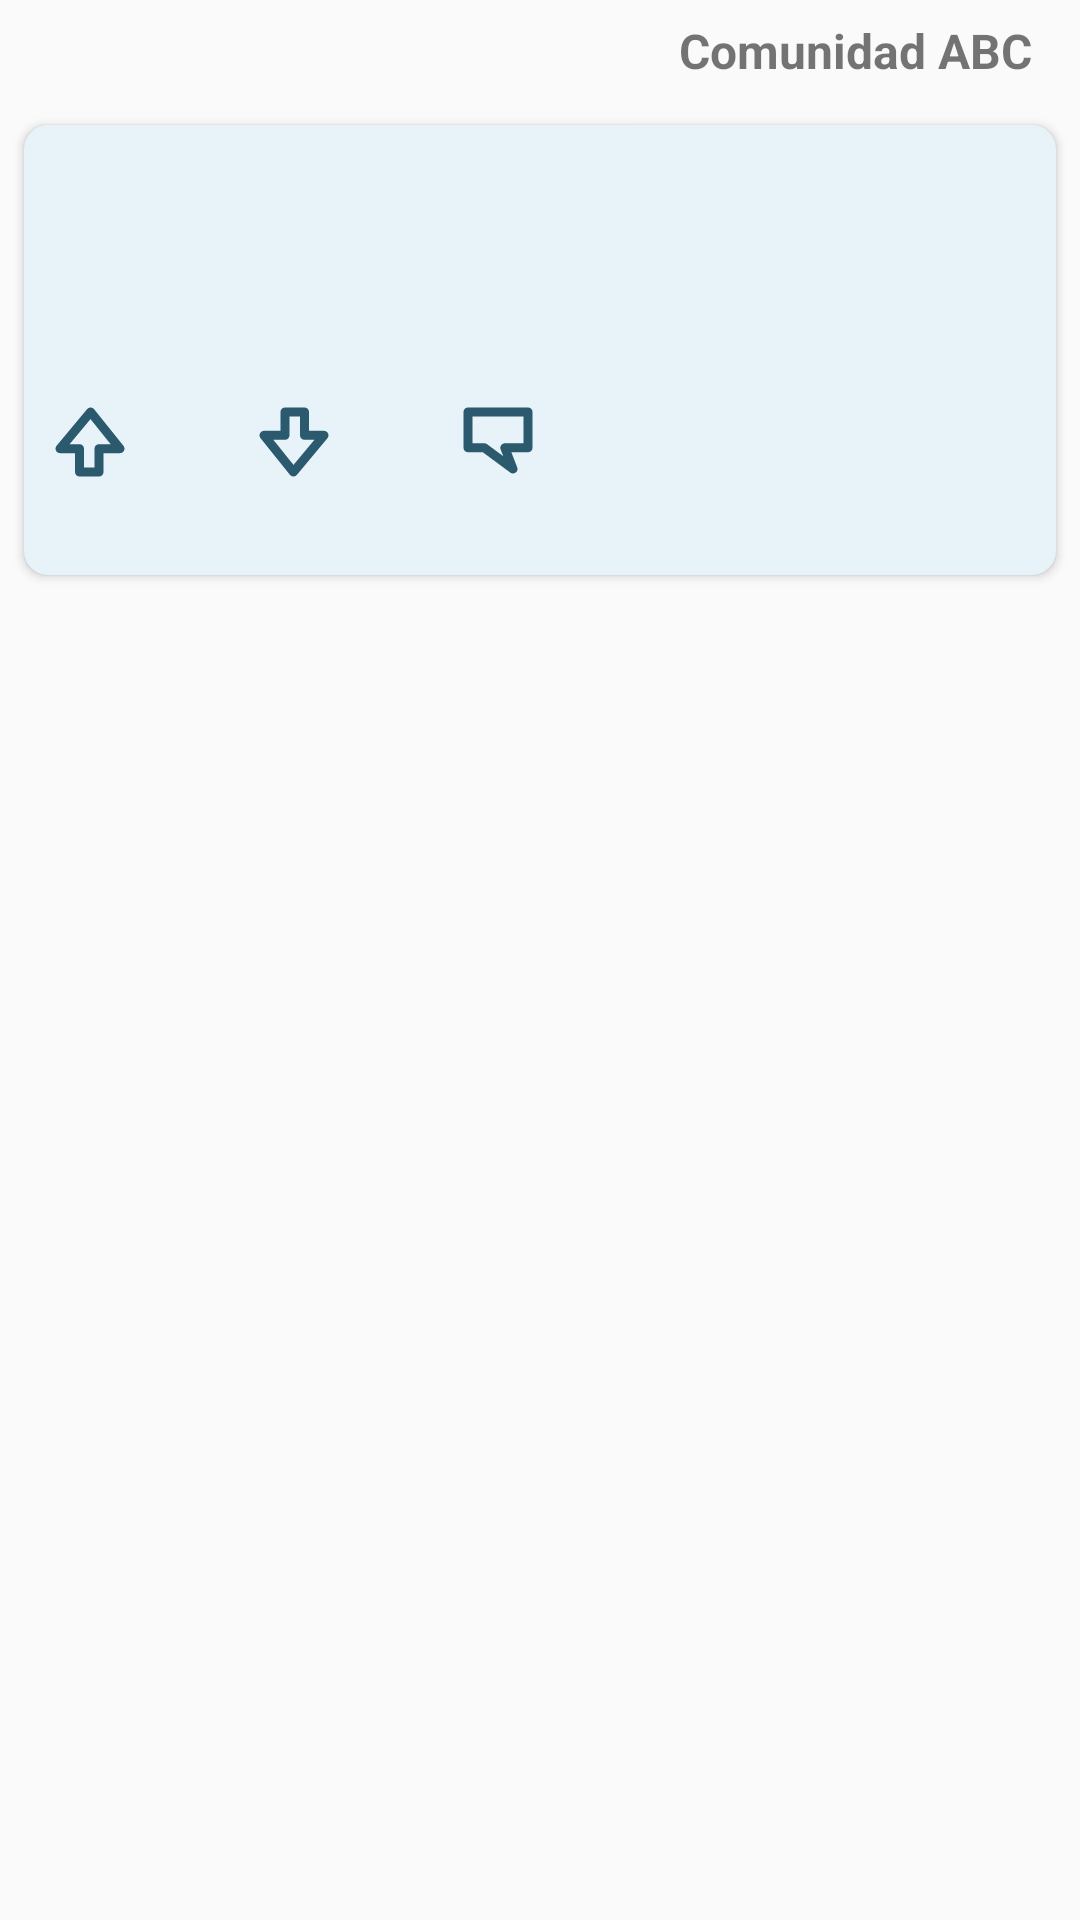

Icon bounding boxes for this 1080*1920 phone screenshot, format (x1, y1, x2, y2):
arrow down: (259, 407, 329, 477)
arrow up: (55, 407, 125, 477)
chat: (463, 407, 533, 474)
